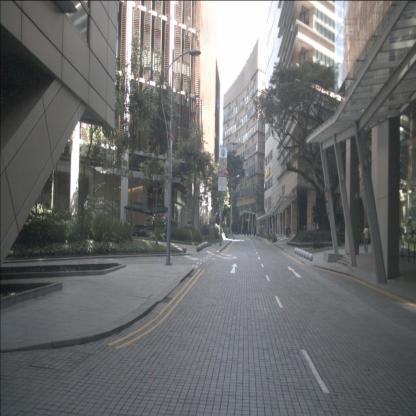human-pedestrian-adult: (363, 224, 369, 252), (189, 221, 193, 238), (187, 221, 189, 237)
